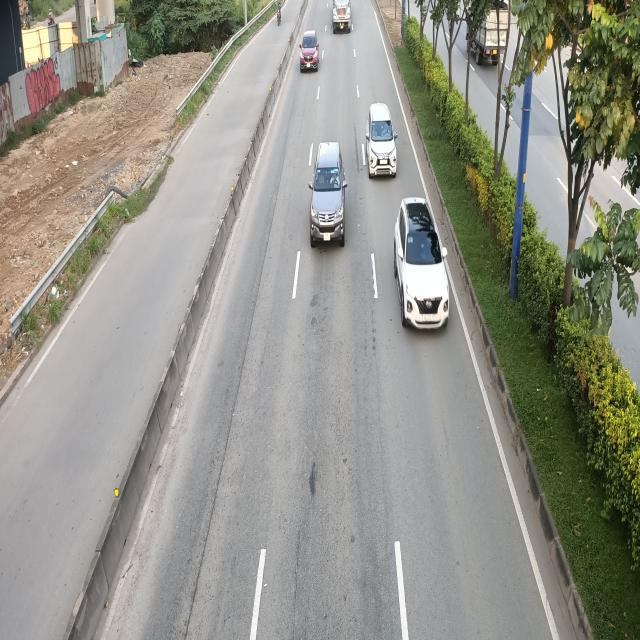car: (396, 200, 452, 333), (312, 143, 349, 249), (363, 103, 396, 179), (301, 31, 321, 72)
container: (332, 0, 354, 32)
